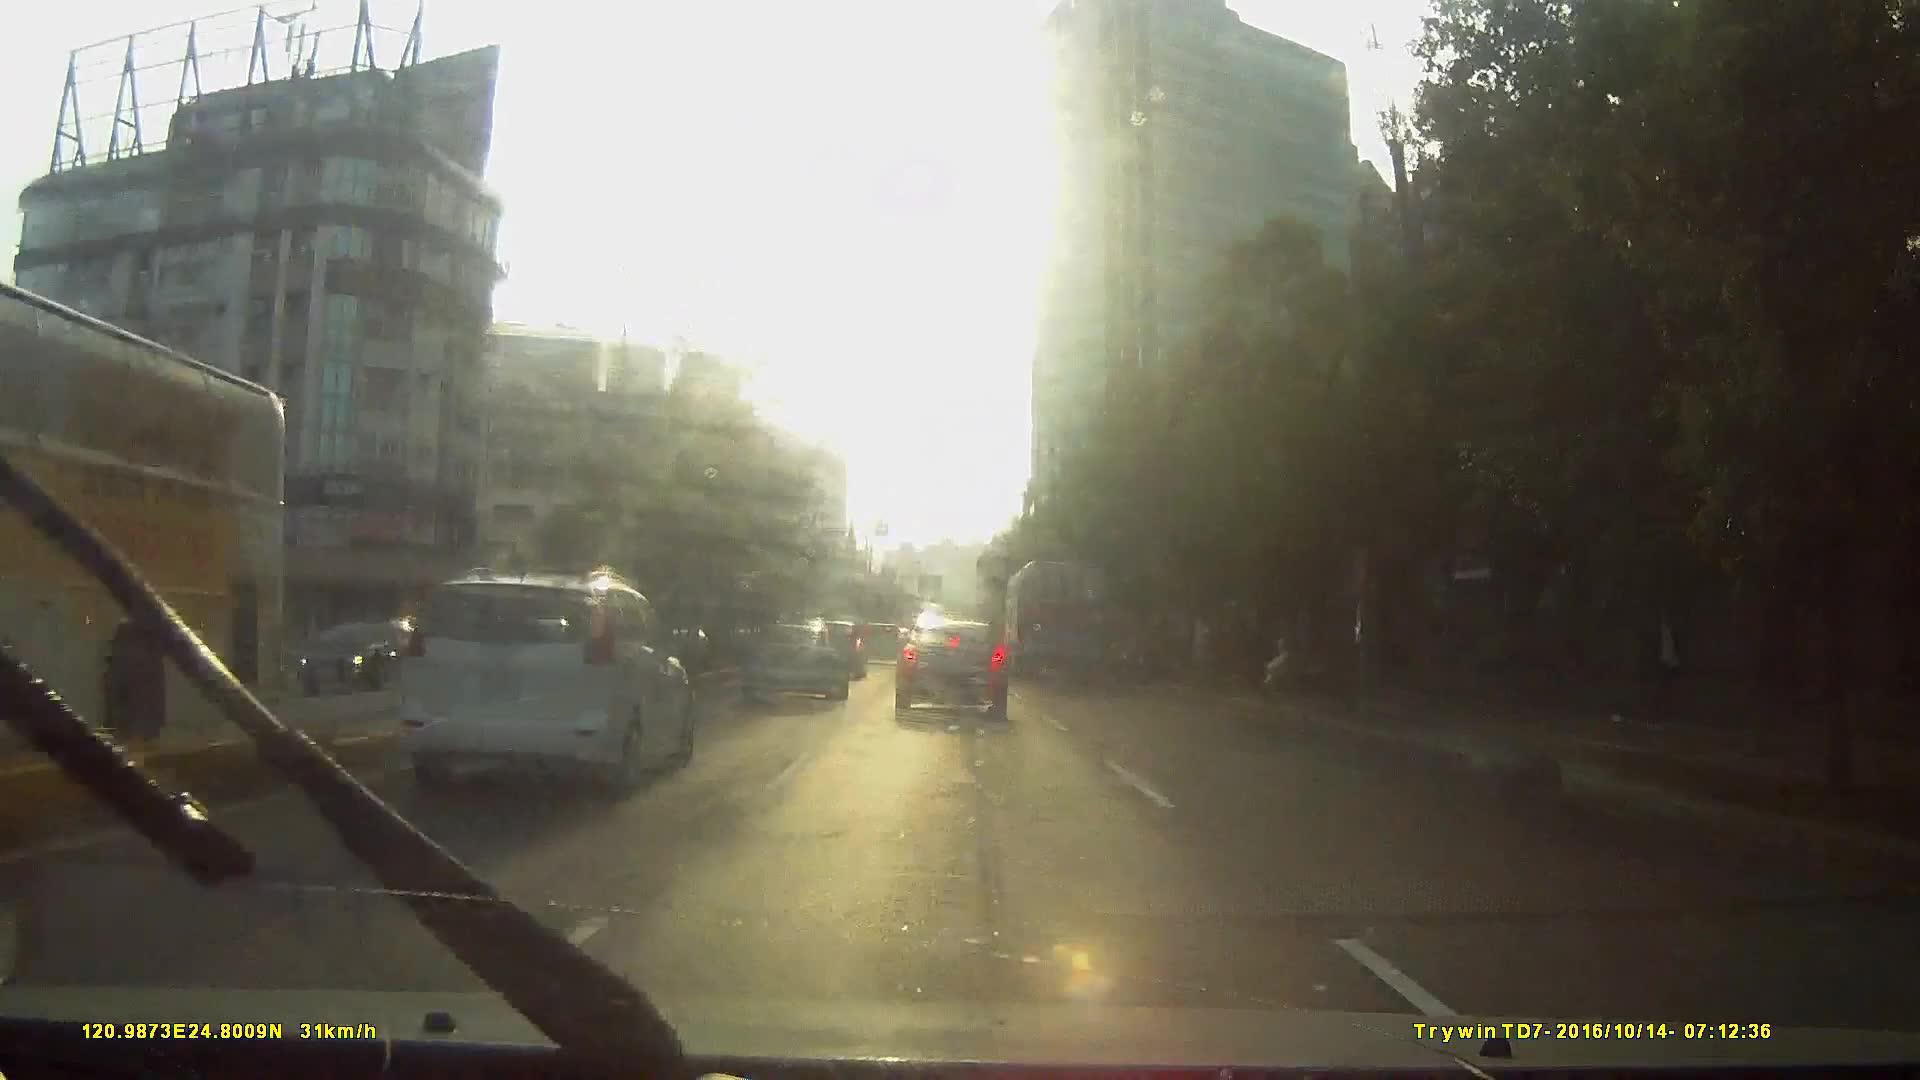pedestrian: (1624, 579, 1700, 742)
vehicle: (1, 284, 298, 802), (250, 556, 684, 868), (396, 567, 692, 792), (281, 615, 445, 701), (1005, 557, 1111, 685), (890, 613, 1006, 721), (736, 621, 845, 704), (853, 616, 902, 665)
